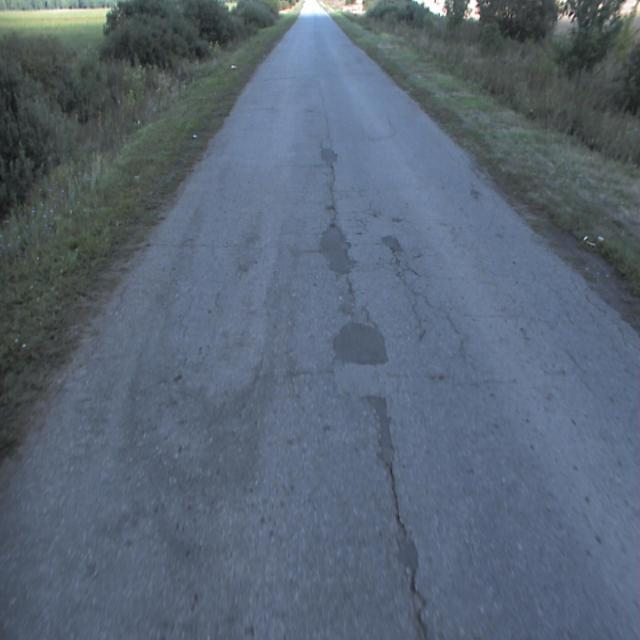road: (0, 0, 639, 639)
